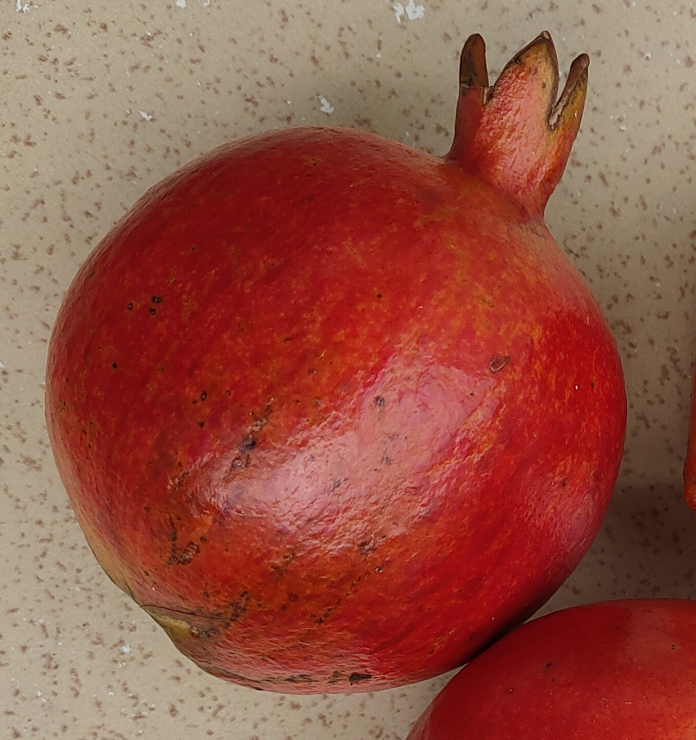pomegranate_B: (44, 29, 627, 695)
